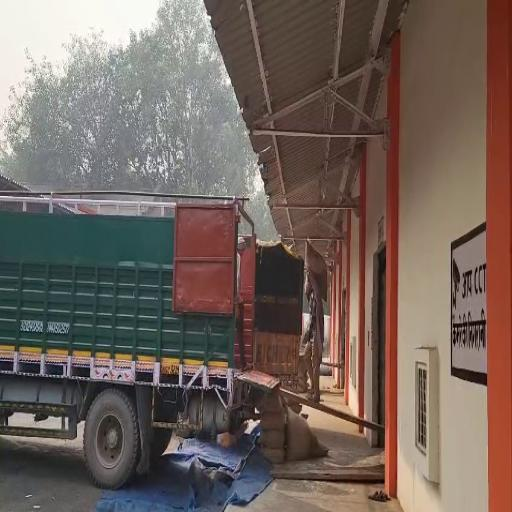bag: (305, 233, 330, 304)
